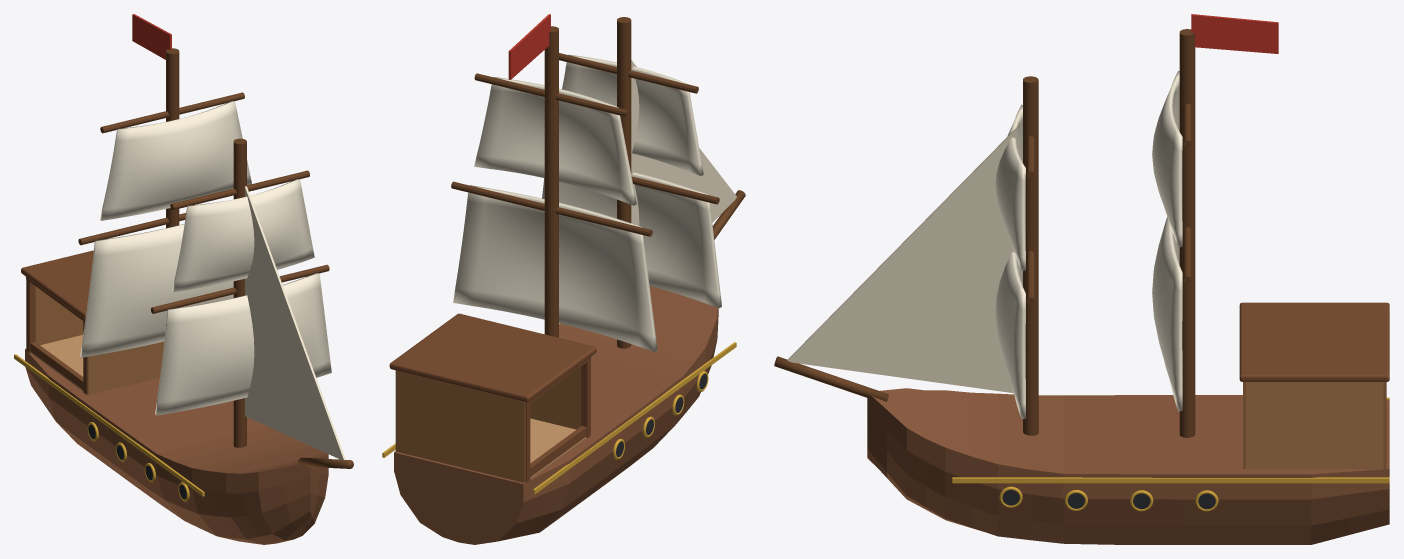
Rendered from velero.glb.
3 views of the same model, side by side, from view 1: azimuth 30°, elevation 25°; view 2: azimuth 150°, elevation 25°; view 3: azimuth 270°, elevation 25° (orthographic). The views are drawn at different scales.
Visible parts, largest first — view 1: casco, vela, vela.003, prisma.002, vela.002, vela.001, Cube.003, Cube.004, Cube.002, Cylinder.009, Cylinder.012, prisma (+9 smaller); view 2: casco, vela.002, vela.003, Cube.002, Cube.004, vela, vela.001, Cylinder.012, prisma.002, Cylinder.009, Cube.003, Cylinder.013 (+10 smaller); view 3: casco, prisma.002, Cube.004, Cube.001, Cylinder.012, Cylinder.009, vela.002, vela.003, vela, vela.001, prisma.001, bandera (+1 smaller).
Boxes of the visible parts, box(x1,y1,x2,y2) form: casco: box(25, 348, 328, 544); vela: box(155, 273, 331, 415); vela.003: box(100, 101, 251, 220); prisma.002: box(245, 186, 345, 460); vela.002: box(80, 224, 233, 357); vela.001: box(172, 179, 314, 291); Cube.003: box(87, 341, 164, 394); Cube.004: box(21, 250, 93, 319); Cube.002: box(35, 286, 83, 345); Cylinder.009: box(233, 138, 246, 447); Cylinder.012: box(166, 48, 179, 228); prisma: box(14, 354, 204, 496); casco: box(394, 286, 718, 544); vela.002: box(453, 185, 657, 351); vela.003: box(474, 77, 636, 205); Cube.002: box(395, 370, 525, 482); Cube.004: box(389, 313, 596, 402); vela: box(542, 172, 721, 308); vela.001: box(562, 54, 703, 175); Cylinder.012: box(544, 26, 558, 337); prisma.002: box(631, 60, 736, 225); Cylinder.009: box(617, 17, 631, 348); Cube.003: box(530, 366, 581, 429); Cylinder.013: box(451, 181, 652, 236); casco: box(867, 388, 1389, 544); prisma.002: box(787, 127, 1017, 393); Cube.004: box(1239, 302, 1389, 381); Cube.001: box(1246, 382, 1383, 468); Cylinder.012: box(1179, 29, 1195, 437); Cylinder.009: box(1023, 76, 1038, 435); vela.002: box(1152, 217, 1182, 411); vela.003: box(1152, 71, 1182, 247); vela: box(995, 252, 1025, 418); vela.001: box(995, 104, 1025, 270); prisma.001: box(952, 477, 1389, 483); bandera: box(1191, 14, 1278, 53).
Bounding box in the file's own units: 1.95 × 4.4 × 4.71.
